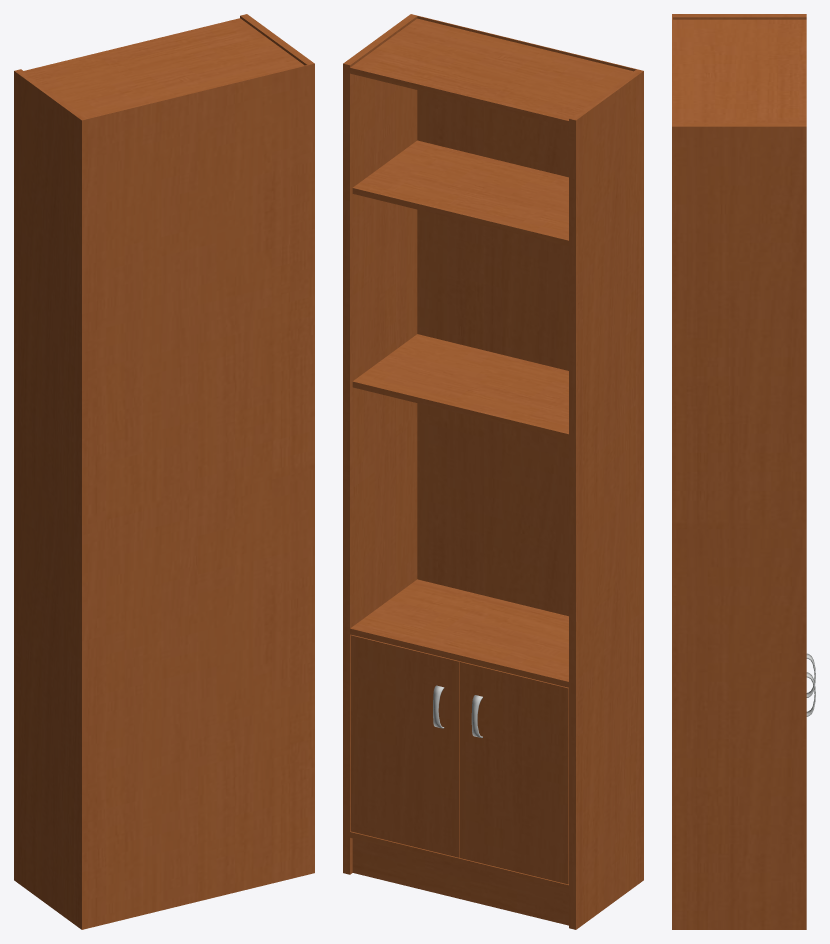
Rendered from Shelf_02.dae.
3 views of the same model, side by side, from view 1: azimuth 30°, elevation 25°; view 2: azimuth 150°, elevation 25°; view 3: azimuth 270°, elevation 25° (orthographic).
Visible parts, largest first — view 1: Shelf_2; view 2: Shelf_2, SH_1_Door-R, SH_2_Door-L; view 3: Shelf_2.
Part boxes in pixels (<box>): Shelf_2: <box>14,14,314,929</box>; Shelf_2: <box>343,14,643,929</box>; SH_1_Door-R: <box>460,661,568,884</box>; SH_2_Door-L: <box>351,635,459,857</box>; Shelf_2: <box>672,14,806,929</box>.
Size of the model in its own units: 0.5 by 0.2695 by 1.66.
Materials: 2 (2 with a texture image).
